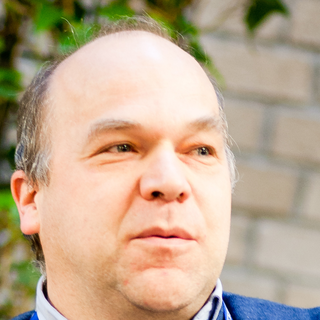eye: (94, 136, 145, 161), (178, 139, 223, 163)
